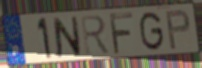1: (36, 16, 53, 62)
F: (107, 11, 135, 56)
G: (139, 11, 166, 53)
N: (52, 15, 83, 60)
P: (164, 8, 192, 51)
R: (79, 14, 113, 56)
